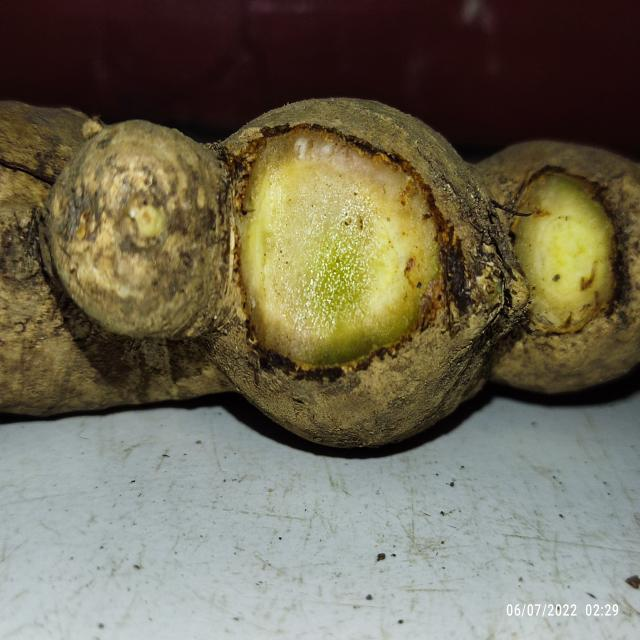ginger: (3, 88, 640, 454)
